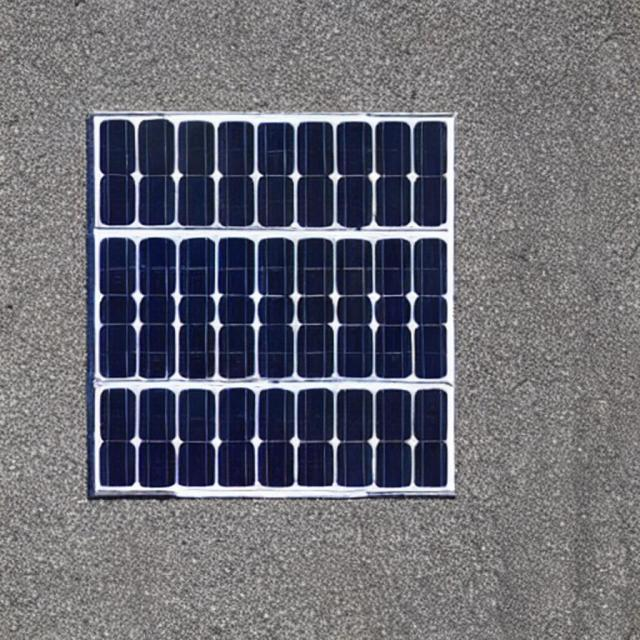no faulty: (81, 100, 450, 494)
